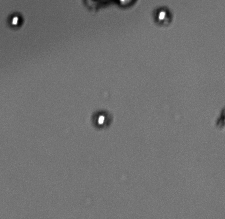Living Cell: (93, 108, 111, 129), (153, 6, 171, 25), (7, 11, 23, 29), (116, 1, 140, 8)
